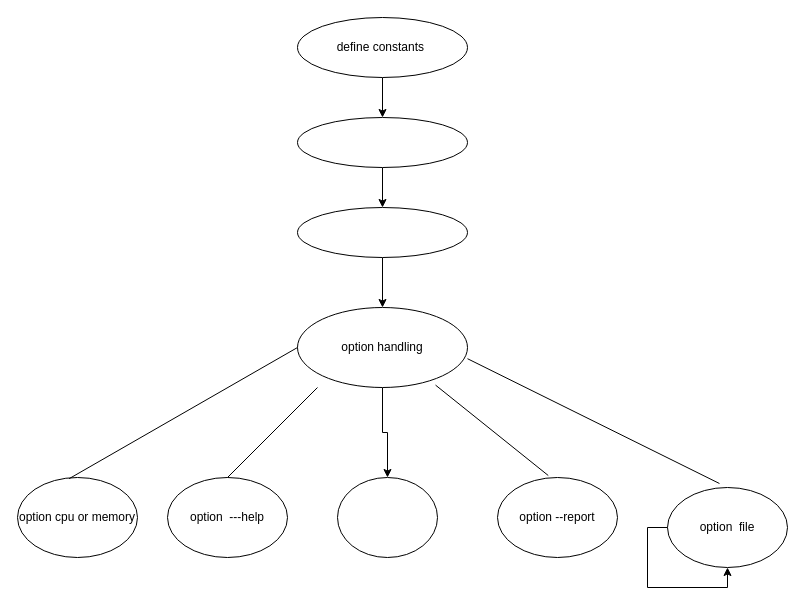
This 805x613 diagram has some shape labels left out. The centre of each missing label's shape, as x and y in pixels:
creation of help message function: the point at 382,142
creation of main function: the point at 382,232
option --version: the point at 387,517
